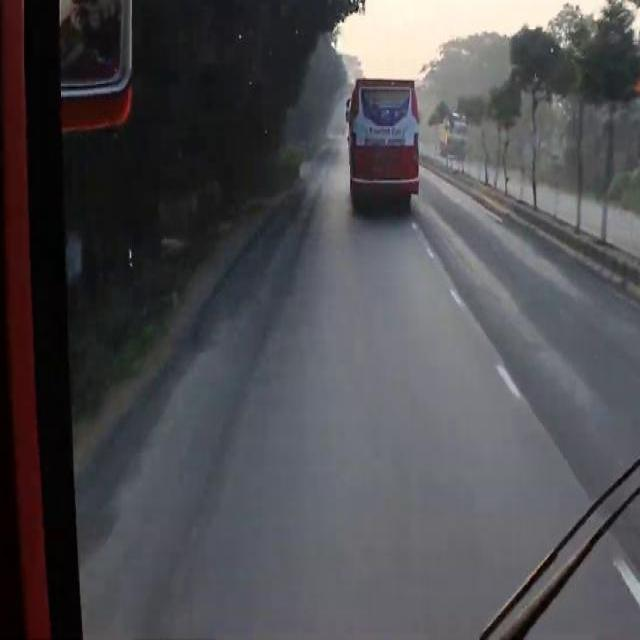bus: (344, 78, 418, 199)
truck: (437, 106, 468, 156)
